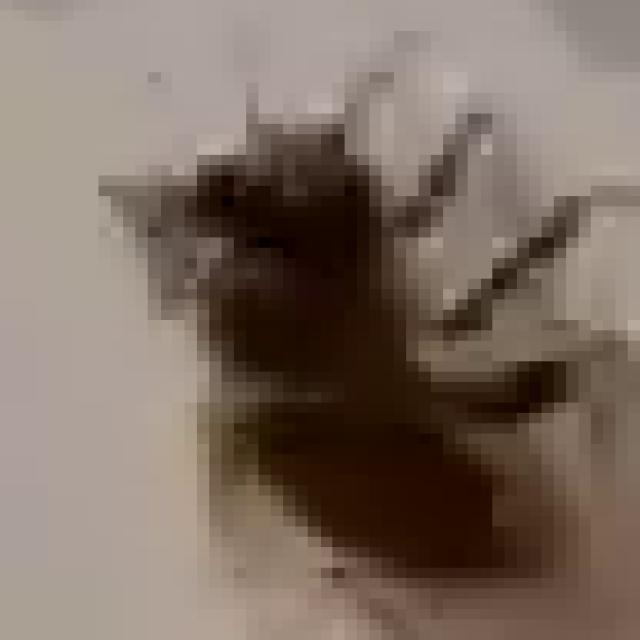honeybee: (119, 105, 528, 544)
